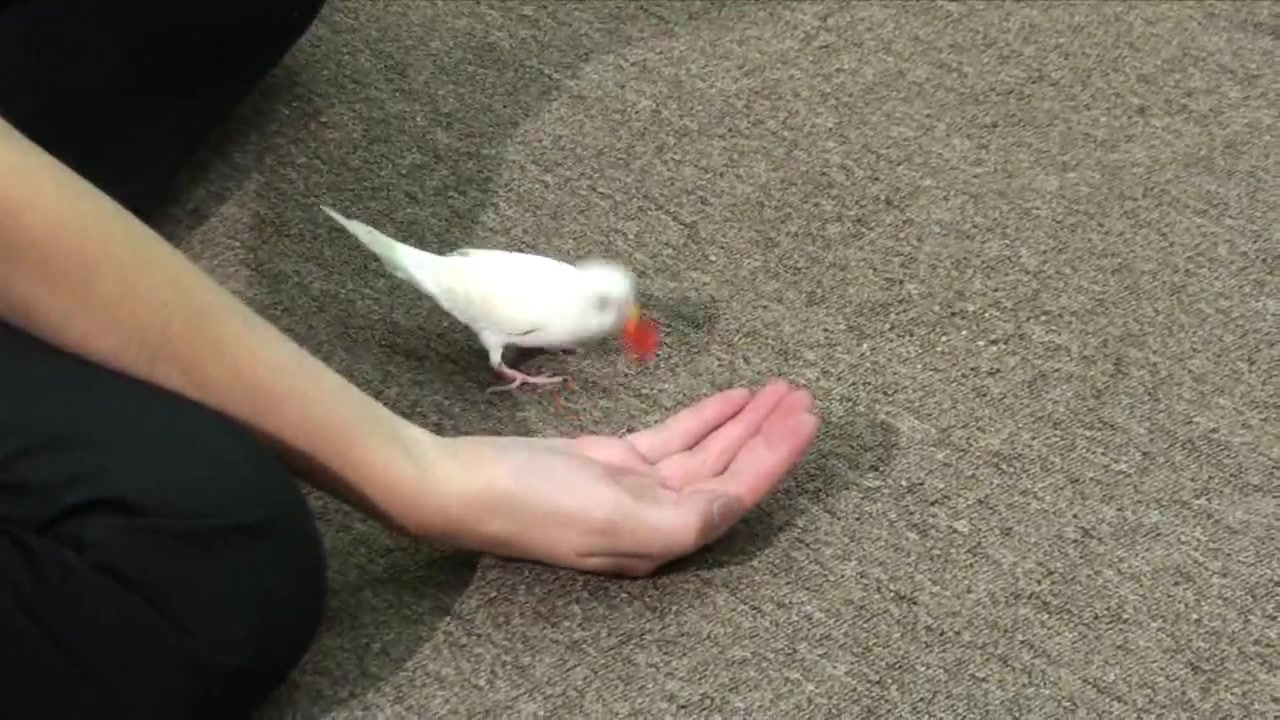bird: (321, 204, 644, 394)
